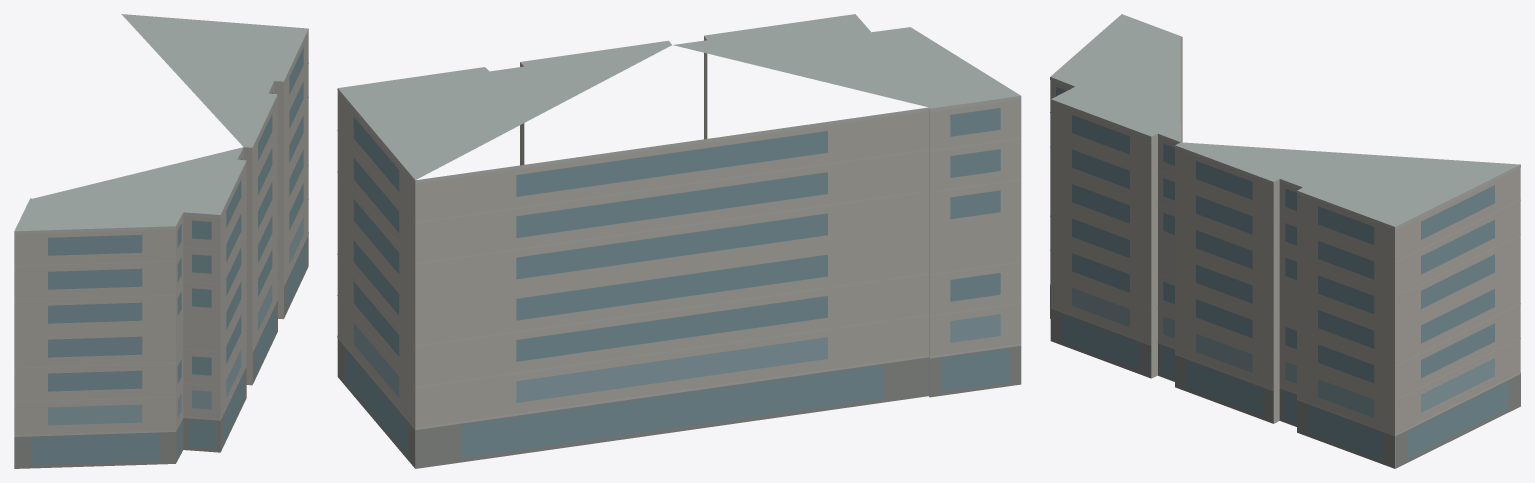
The model's file is survey-upis-32674613.glb.
3 renders of one model, left to right at view 1: azimuth 30°, elevation 25°; view 2: azimuth 150°, elevation 25°; view 3: azimuth 270°, elevation 25°, orthographic. The views are drawn at different scales.
Parts seen in each view (by area): view 1: survey-upis-32674613.tmp; view 2: survey-upis-32674613.tmp; view 3: survey-upis-32674613.tmp.
Boxes of the visible parts, x1,y1,x2,y2 form: survey-upis-32674613.tmp: (14,14,308,468); survey-upis-32674613.tmp: (337,14,1021,468); survey-upis-32674613.tmp: (1050,14,1520,468).
Size of the model in its own units: 36.64 by 19.4 by 34.22.
